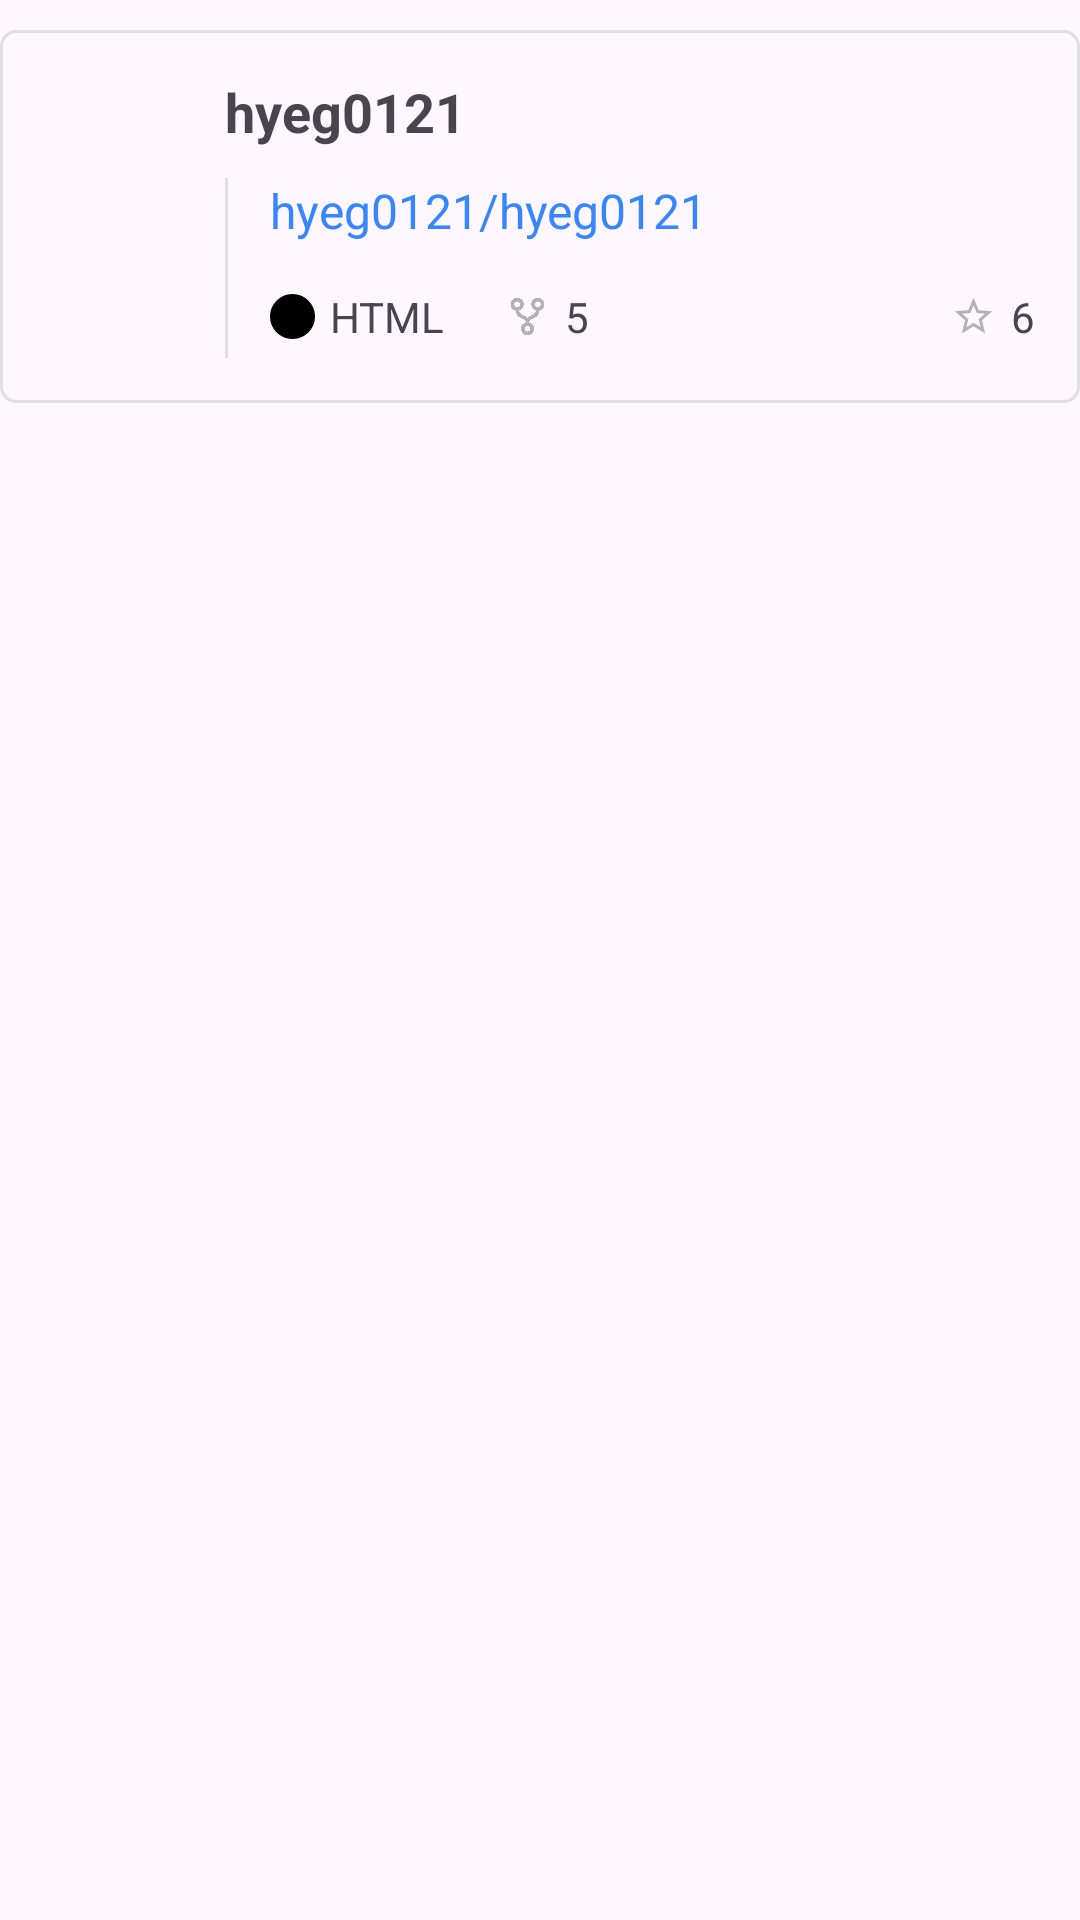

Where to tap for icons on this 1080w x 1920h app screen, as [x,y]:
forked: [527,316]
star border: [973,315]
